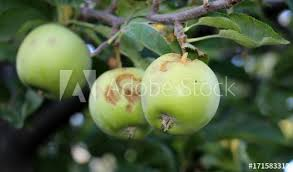apple: (15, 26, 90, 94)
damaged_apple: (143, 54, 222, 138), (84, 69, 158, 139)
